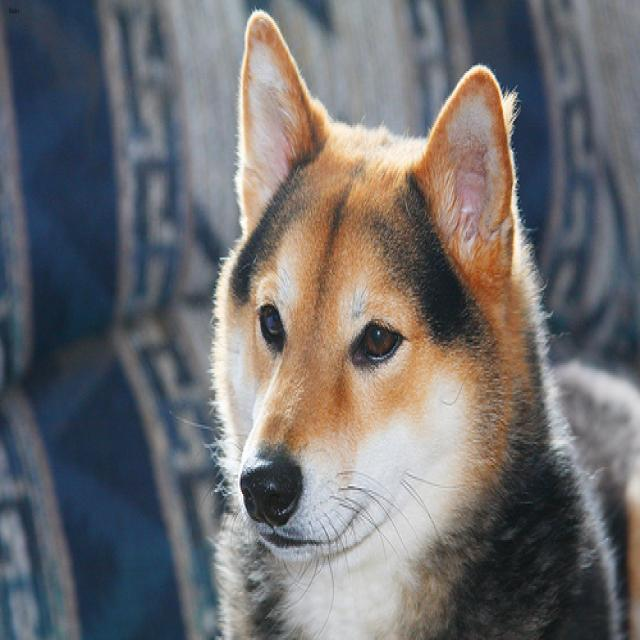dog-shiba_inu: (197, 2, 637, 636)
